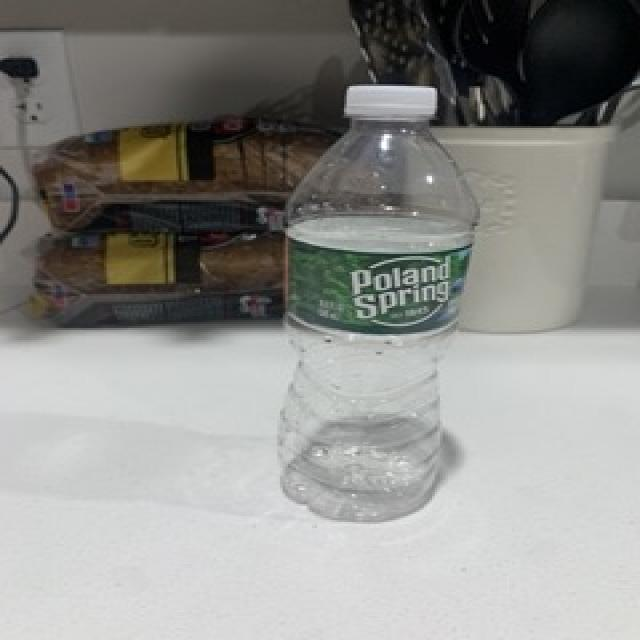water_bottle: (274, 82, 480, 527)
